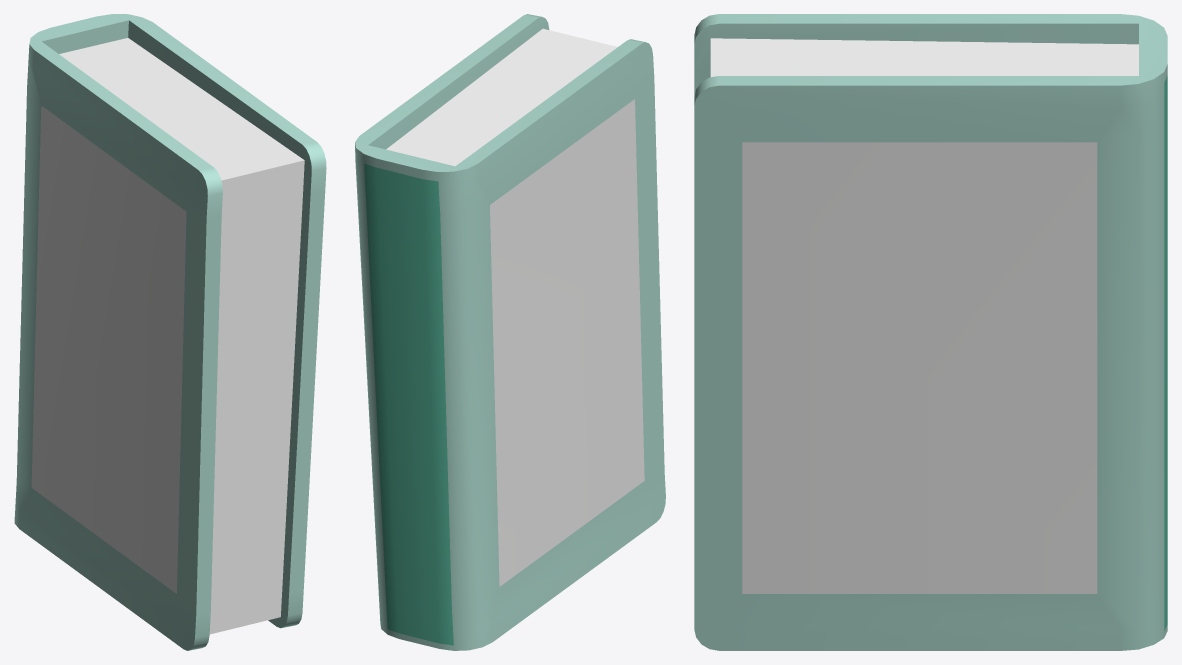
The model's file is book_20.fbx.
3 renders of one model, left to right at view 1: azimuth 30°, elevation 25°; view 2: azimuth 150°, elevation 25°; view 3: azimuth 270°, elevation 25°, orthographic. The views are drawn at different scales.
Parts seen in each view (by area): view 1: book_20; view 2: book_20; view 3: book_20.
Part boxes in pixels (x1,y1,x2,y2): book_20: [14, 14, 326, 650]; book_20: [355, 14, 665, 650]; book_20: [694, 14, 1167, 650].
Bounding box in the file's own units: 0.0918 × 0.3132 × 0.231.
